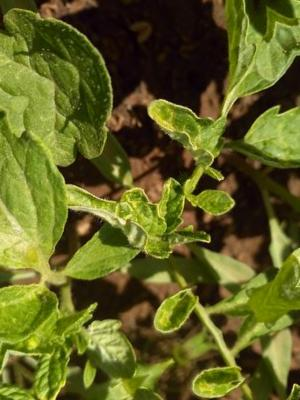Tomato leaf mosaic virus: (58, 133, 215, 294), (0, 110, 97, 299), (132, 68, 242, 199), (46, 192, 163, 301), (216, 82, 300, 200), (71, 307, 150, 392), (0, 259, 71, 350), (135, 274, 213, 349), (12, 331, 90, 400)
